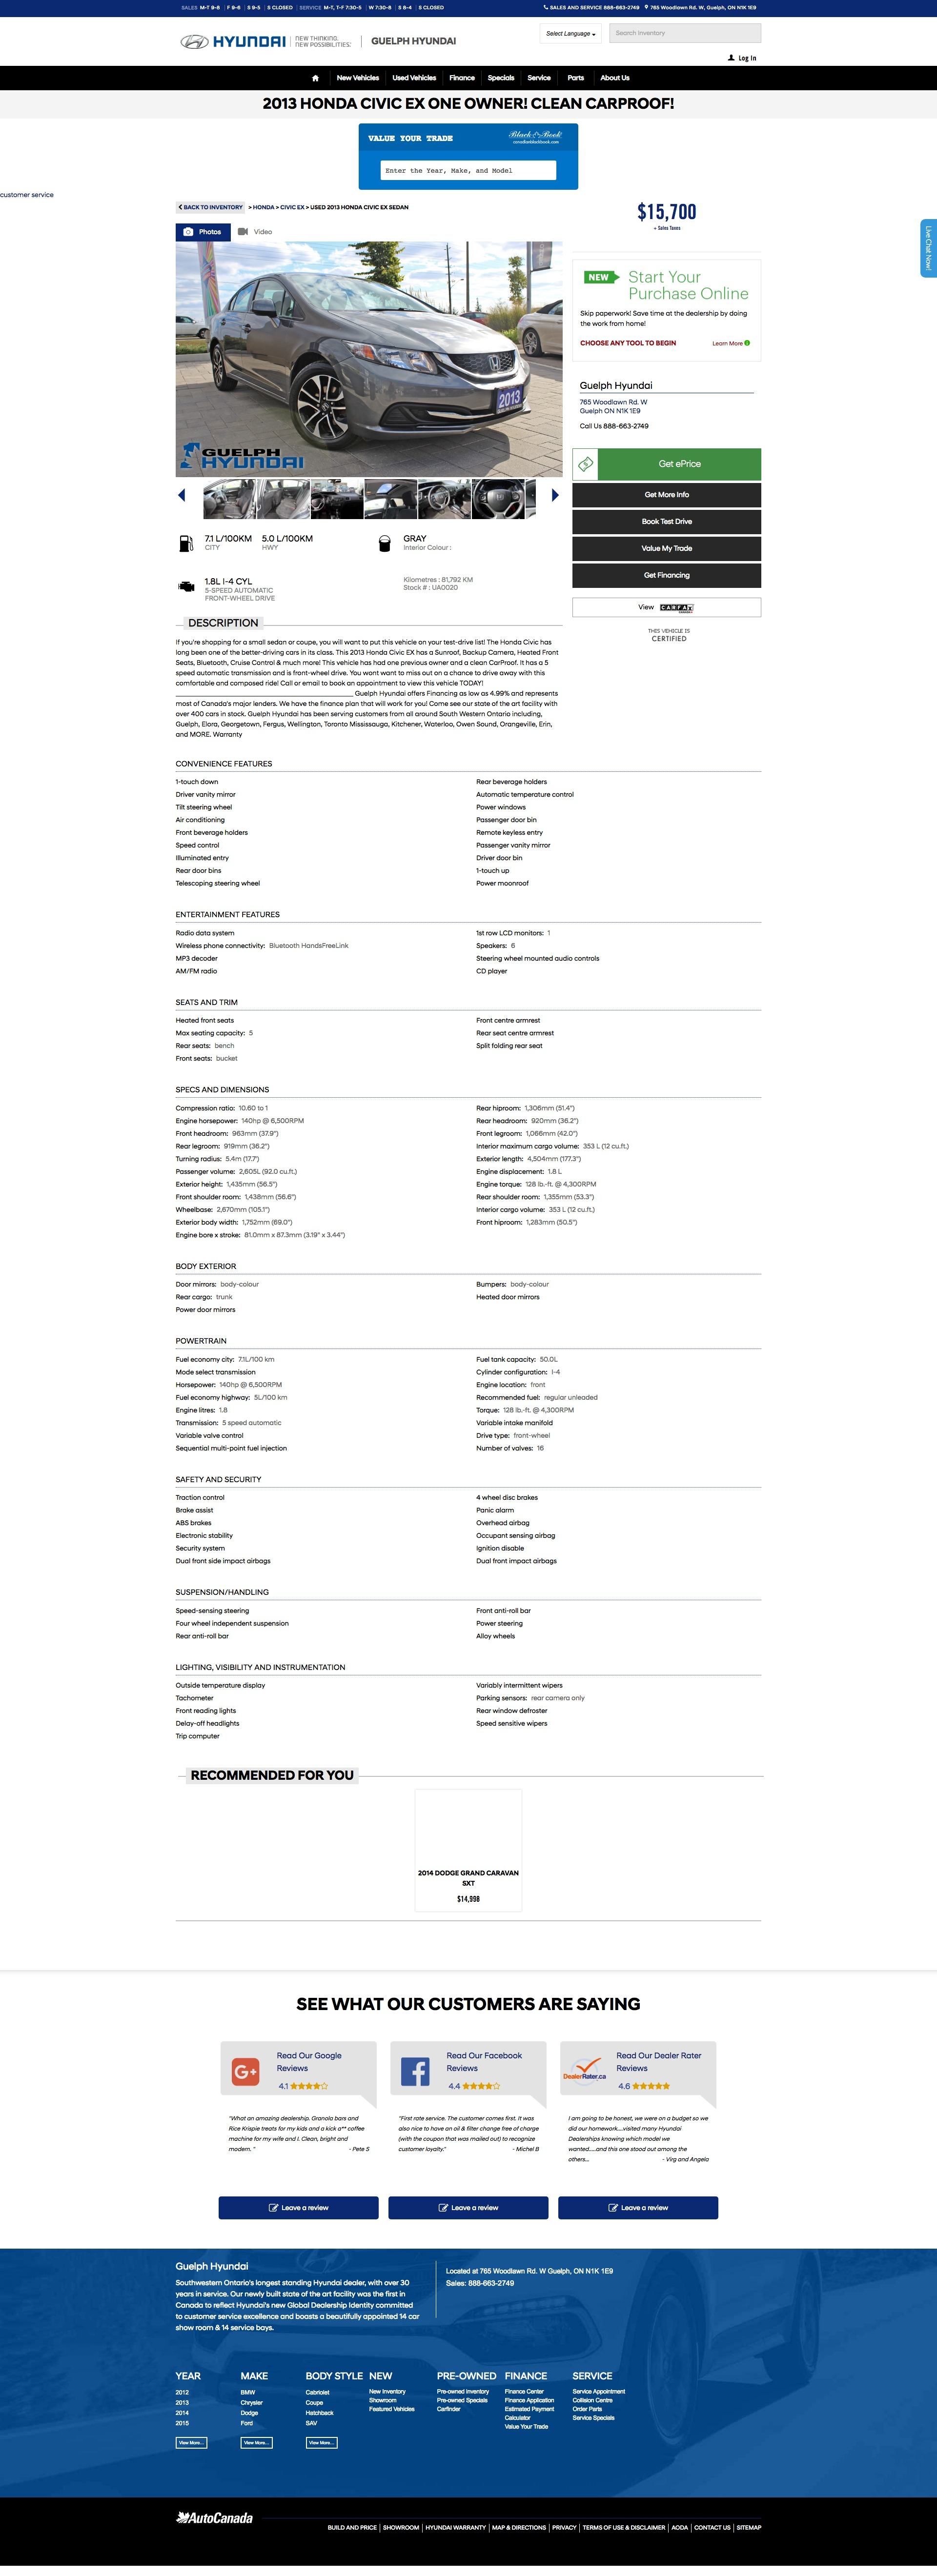car: (551, 490, 561, 503)
